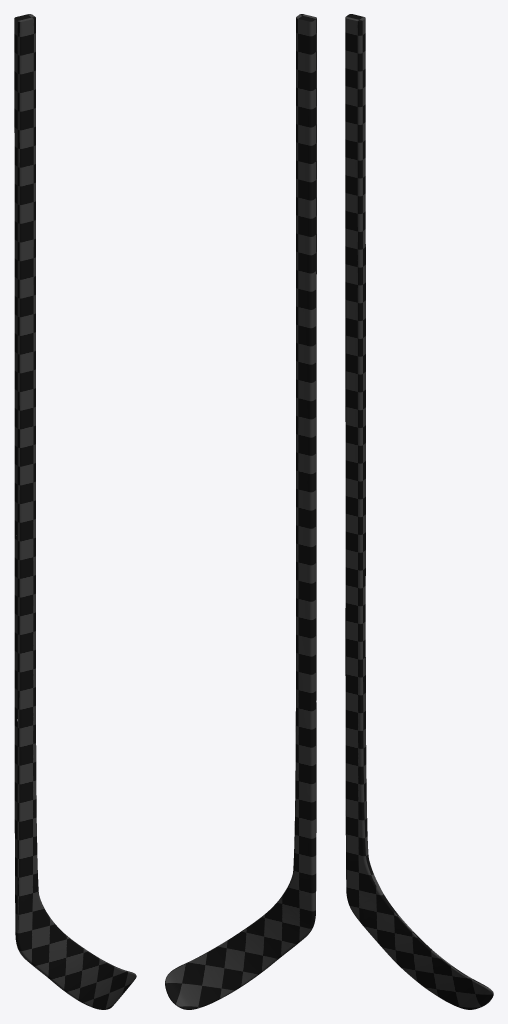
3 views of the same model, side by side, from view 1: azimuth 30°, elevation 25°; view 2: azimuth 150°, elevation 25°; view 3: azimuth 330°, elevation 25° (orthographic). The views are drawn at different scales.
Visible parts, largest first — view 1: geometry_0; view 2: geometry_0; view 3: geometry_0.
Part boxes in pixels (bbox=[...]): geometry_0: bbox=[14, 14, 136, 1009]; geometry_0: bbox=[165, 14, 316, 1009]; geometry_0: bbox=[345, 14, 493, 1009].
Bounding box in the file's own units: 229 × 1650 × 71.36.
Materials: 1 (1 with a texture image).
